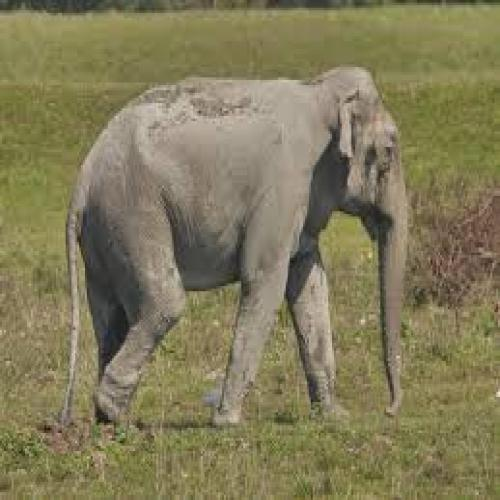asian_elephant-endangered: (62, 64, 412, 428)
